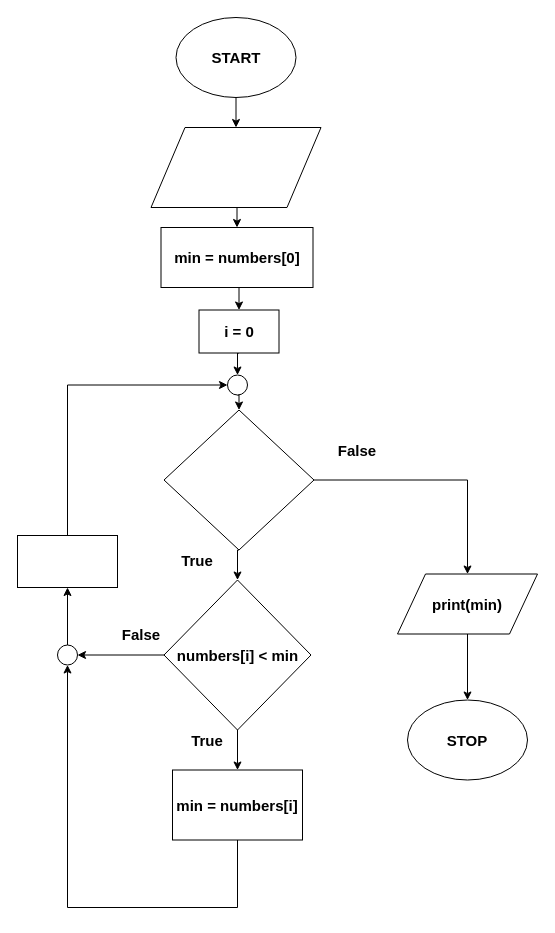
This 555x933 diagram has some shape labels left out. The shapes that lost their labels are listed below. From the top down, each one's centre as x and y in pixels, then its label:
[235,167]: input: numbers[]
[238,479]: i < len(numbers)
[67,561]: i += 1
